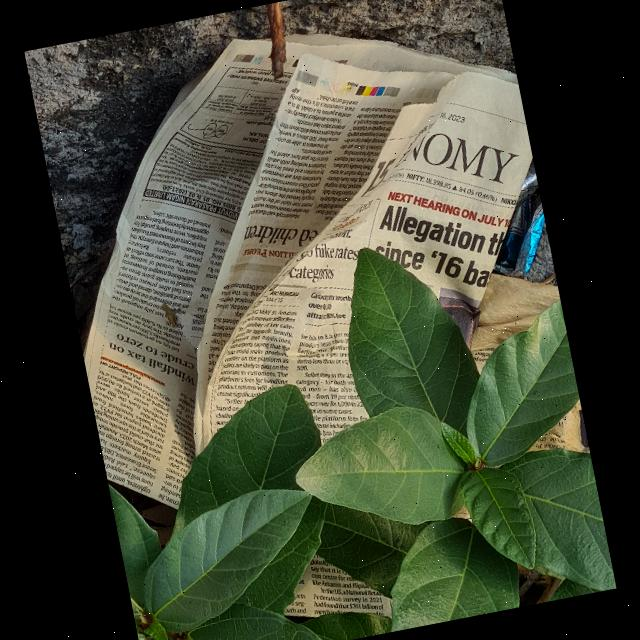trash: (29, 0, 587, 526)
